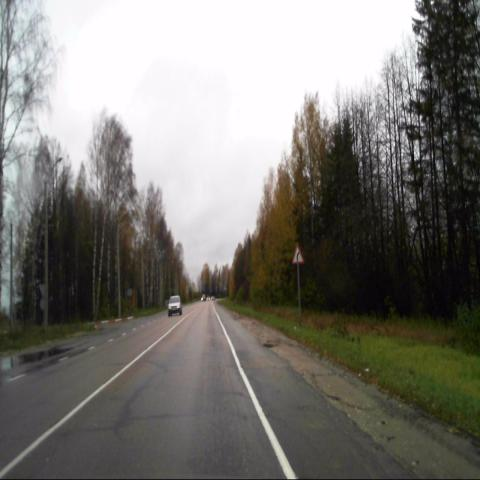1_11: (290, 243, 304, 266)
